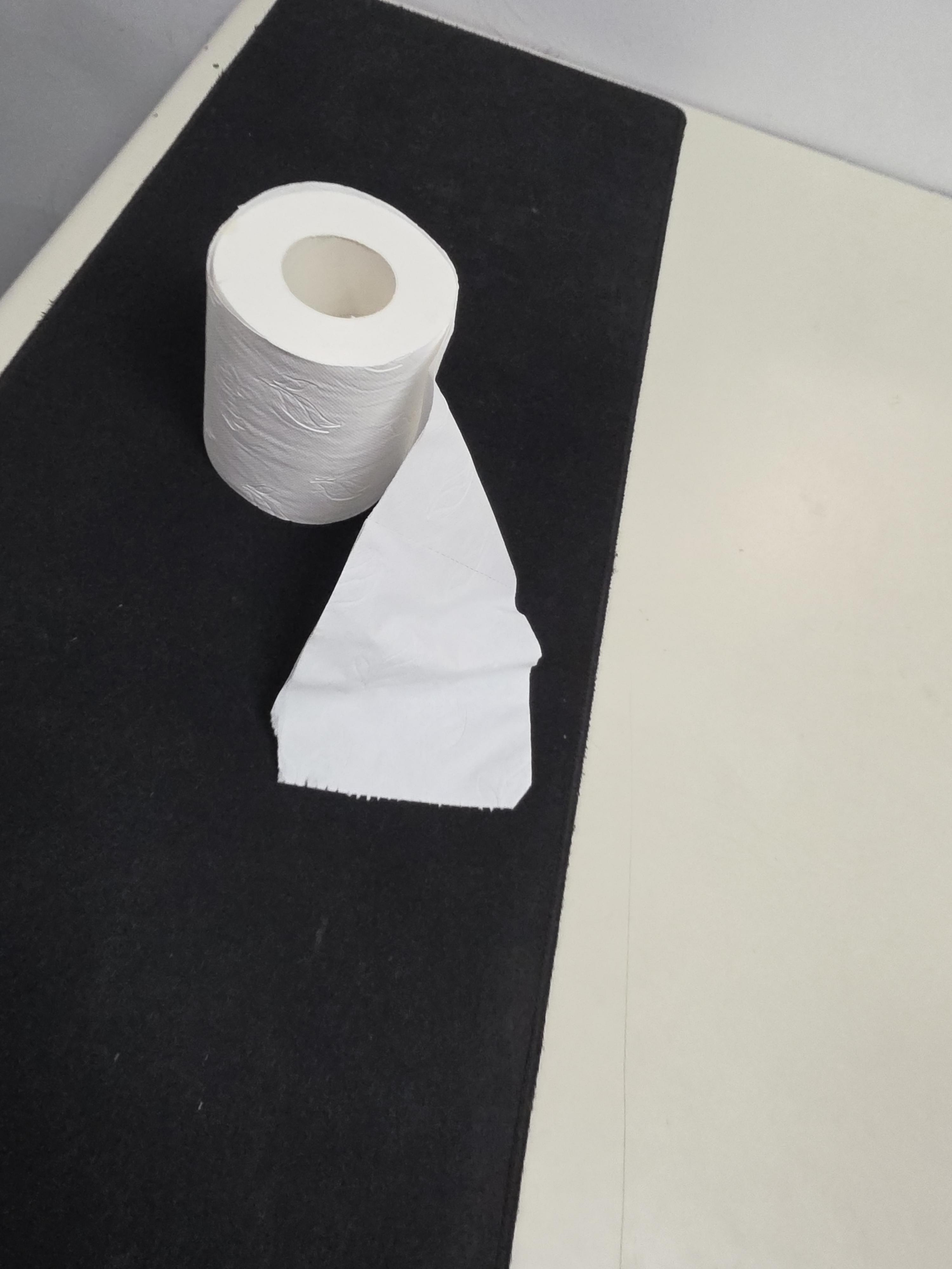tissue: (203, 180, 542, 811)
